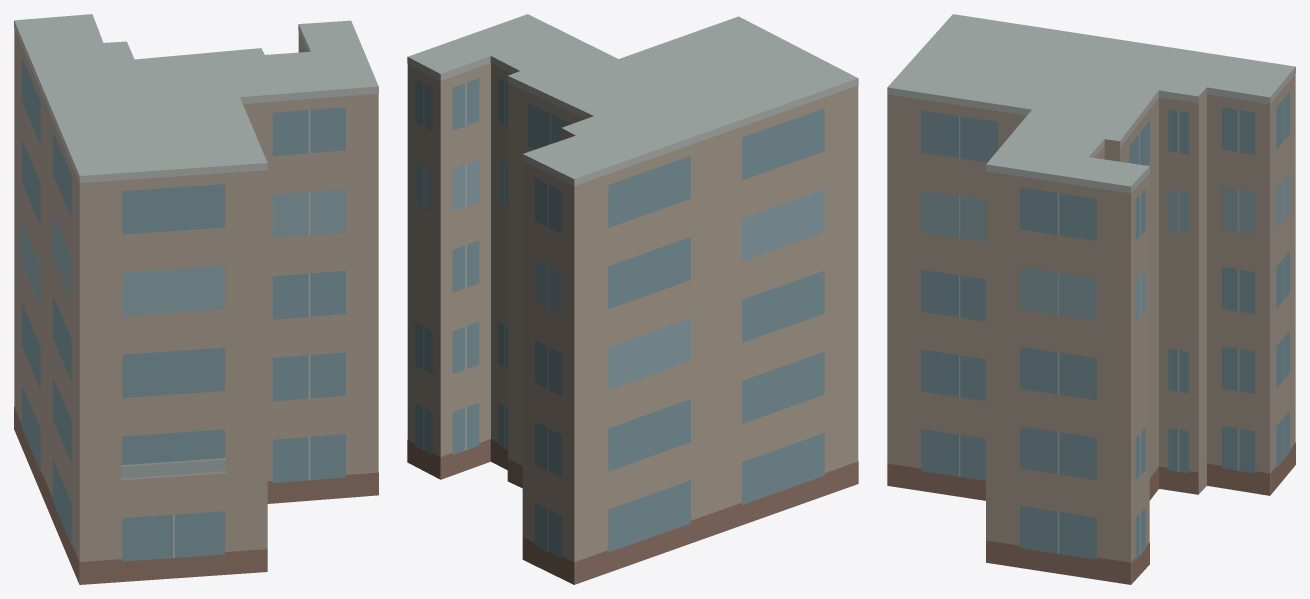
File: survey-upis-32892017.glb
The picture shows the model from 3 angles, left to right: view 1: azimuth 30°, elevation 25°; view 2: azimuth 150°, elevation 25°; view 3: azimuth 270°, elevation 25°; orthographic projection. The views are drawn at different scales.
Parts seen in each view (by area): view 1: survey-upis-32892017.tmp; view 2: survey-upis-32892017.tmp; view 3: survey-upis-32892017.tmp.
Boxes of the visible parts, left/top/right/bottom form: survey-upis-32892017.tmp: left=14, top=14, right=378, bottom=584; survey-upis-32892017.tmp: left=407, top=14, right=858, bottom=584; survey-upis-32892017.tmp: left=887, top=14, right=1295, bottom=584.
Size of the model in its own units: 13.02 by 14 by 13.02.
